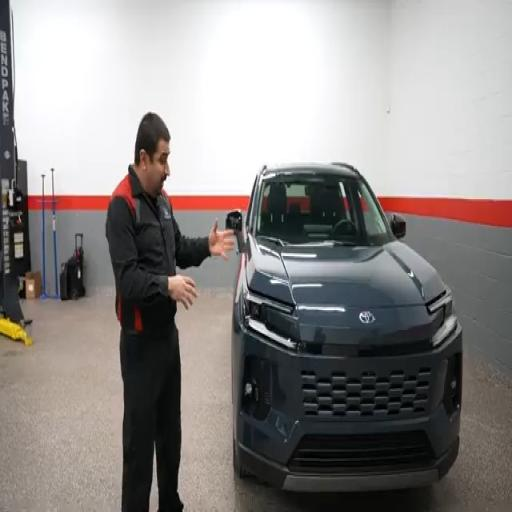bumper: (234, 328, 462, 492)
door: (245, 175, 259, 237)
emblem: (360, 312, 375, 324)
fog_light: (444, 353, 462, 413), (245, 383, 252, 396)
grille: (288, 431, 433, 475), (302, 367, 431, 416)
headlight: (242, 285, 297, 349), (428, 289, 457, 347)
hood: (247, 241, 444, 308)
side_mirror: (226, 210, 244, 253), (388, 214, 406, 238)
wheel: (232, 436, 248, 479)
windshield: (255, 174, 392, 246)
